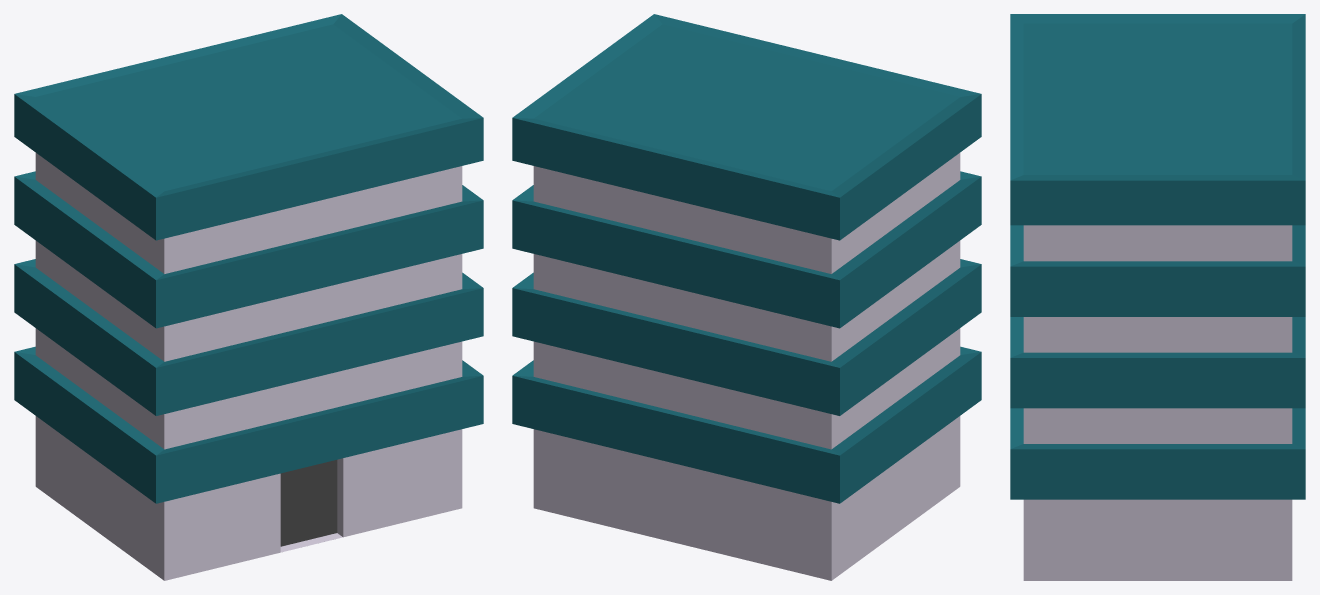
The model's file is office_fixed.fbx.
3 views of the same model, side by side, from view 1: azimuth 30°, elevation 25°; view 2: azimuth 150°, elevation 25°; view 3: azimuth 270°, elevation 25° (orthographic). The views are drawn at different scales.
Visible parts, largest first — view 1: office; view 2: office; view 3: office.
Part boxes in pixels (box(x1,y1,x2,y2)): office: box(14, 14, 483, 580); office: box(512, 14, 981, 580); office: box(1010, 14, 1305, 580).
Bounding box in the file's own units: 17.6 × 20.1 × 13.2.
